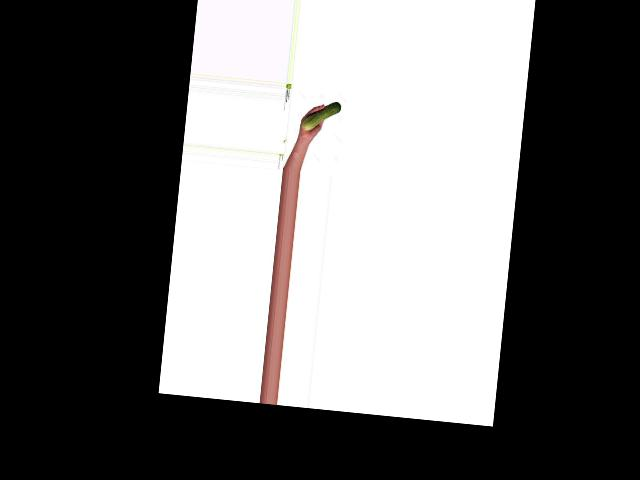cucumber: (301, 99, 340, 133)
